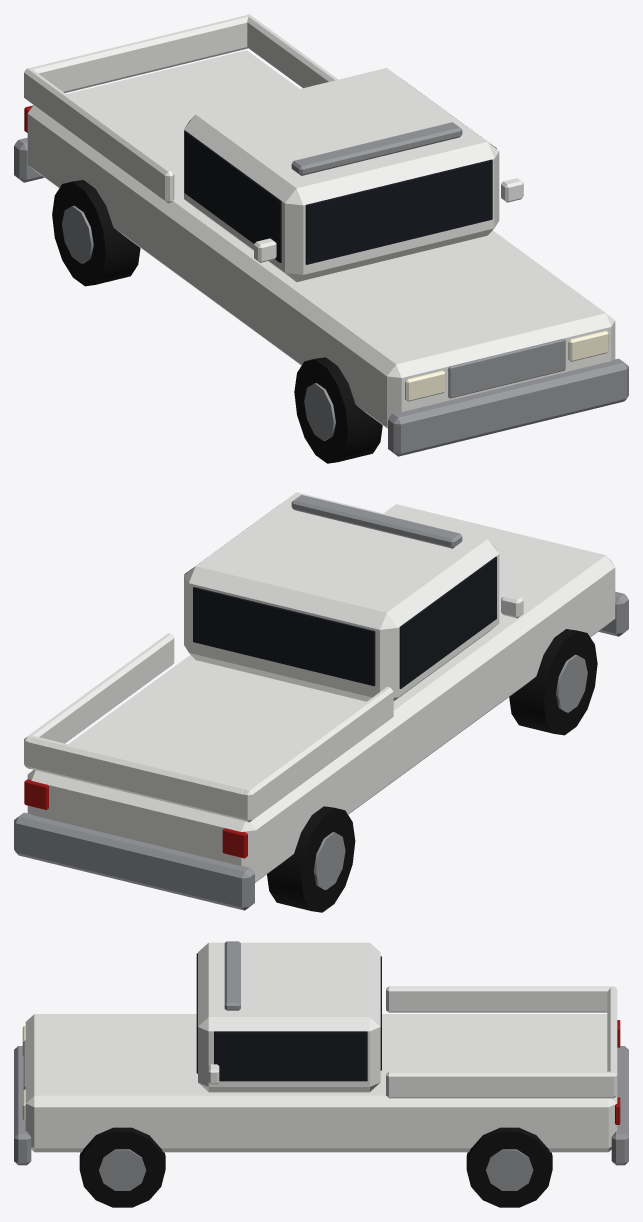
Rendered from pickup_white.dae.
3 renders of one model, top to bottom at view 1: azimuth 30°, elevation 25°; view 2: azimuth 150°, elevation 25°; view 3: azimuth 270°, elevation 25°, orthographic. The views are drawn at different scales.
Parts seen in each view (by area): view 1: marker; view 2: marker; view 3: marker.
Part boxes in pixels (left/top/right/bottom): marker: left=14, top=14, right=628, bottom=463; marker: left=14, top=492, right=628, bottom=912; marker: left=14, top=941, right=628, bottom=1207.
Bounding box in the file's own units: 2.28 × 5.72 × 1.92.
Materials: 1 (1 with a texture image).
